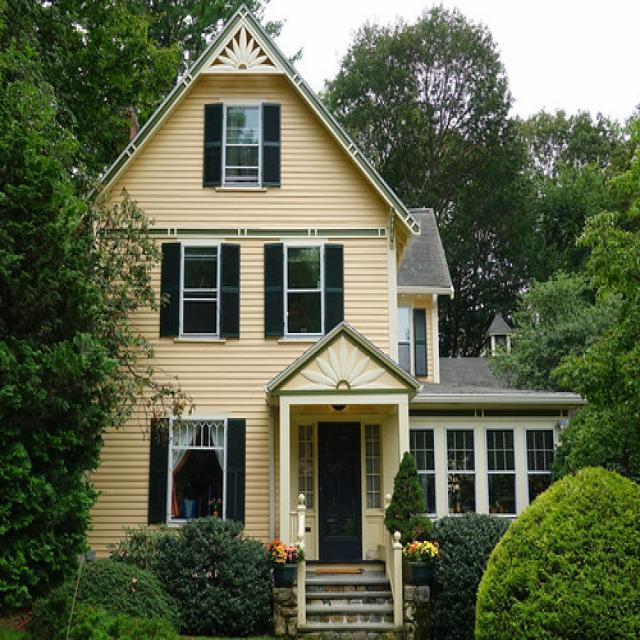Normal_building: (54, 1, 591, 636)
